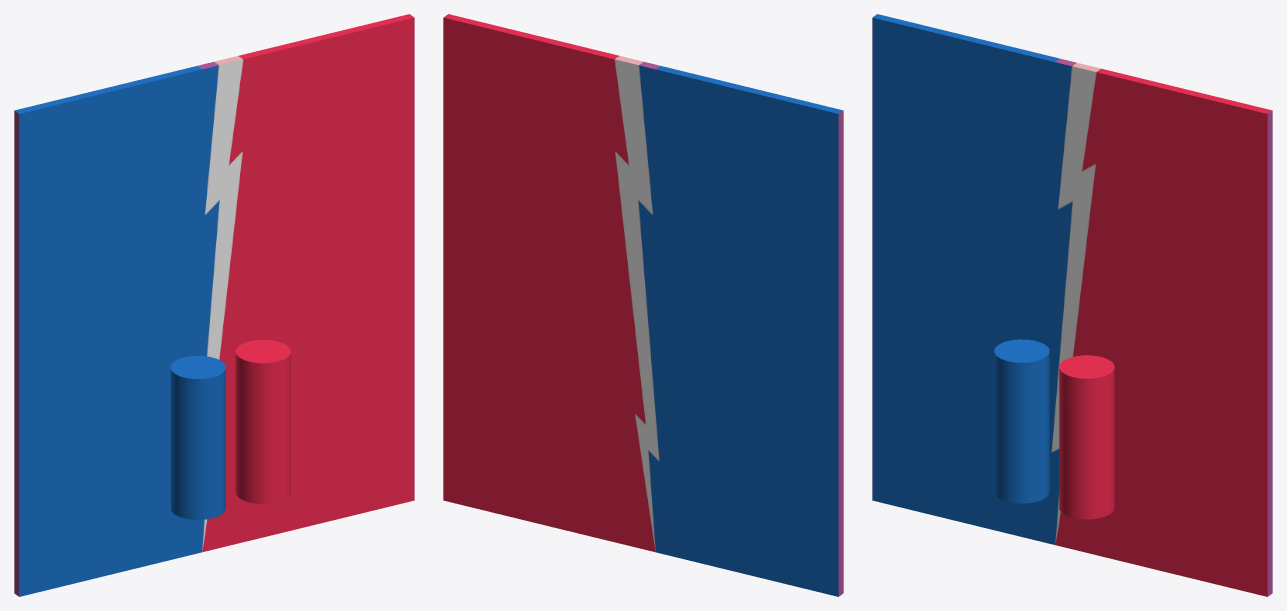
File: VS_Platform.fbx
The picture shows the model from 3 angles, left to right: view 1: azimuth 30°, elevation 25°; view 2: azimuth 150°, elevation 25°; view 3: azimuth 330°, elevation 25°; orthographic projection.
Parts seen in each view (by area): view 1: pCylinder6; view 2: pCylinder6; view 3: pCylinder6.
Part boxes in pixels (x1,y1,x2,y2): pCylinder6: [14, 14, 414, 596]; pCylinder6: [443, 14, 843, 596]; pCylinder6: [872, 14, 1272, 596].
Bounding box in the file's own units: 1582 × 1847 × 232.
1 material, 1 textured.
